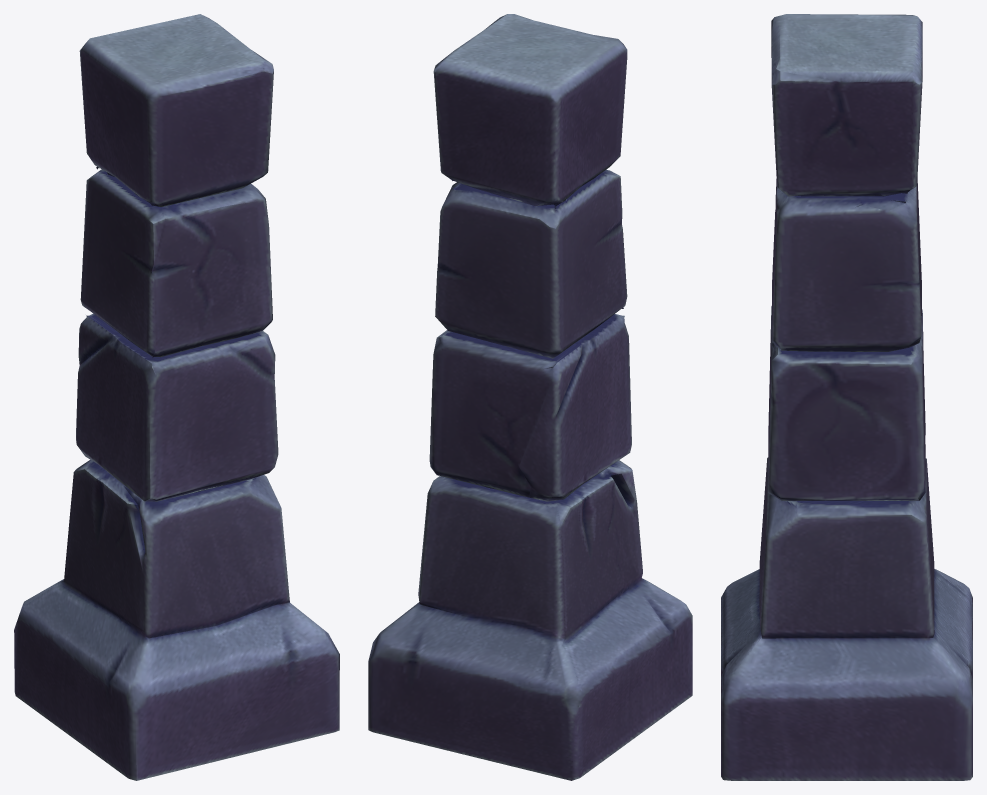
The model's file is Pillar.glb.
The picture shows the model from 3 angles, left to right: view 1: azimuth 30°, elevation 25°; view 2: azimuth 150°, elevation 25°; view 3: azimuth 270°, elevation 25°; orthographic projection. The views are drawn at different scales.
Parts seen in each view (by area): view 1: Pillar; view 2: Pillar; view 3: Pillar.
Boxes of the visible parts, bbox=[...] form: Pillar: bbox=[14, 14, 339, 780]; Pillar: bbox=[368, 14, 692, 780]; Pillar: bbox=[721, 14, 972, 780].
Bounding box in the file's own units: 4 × 12 × 4.
Materials: 1 (1 with a texture image).
